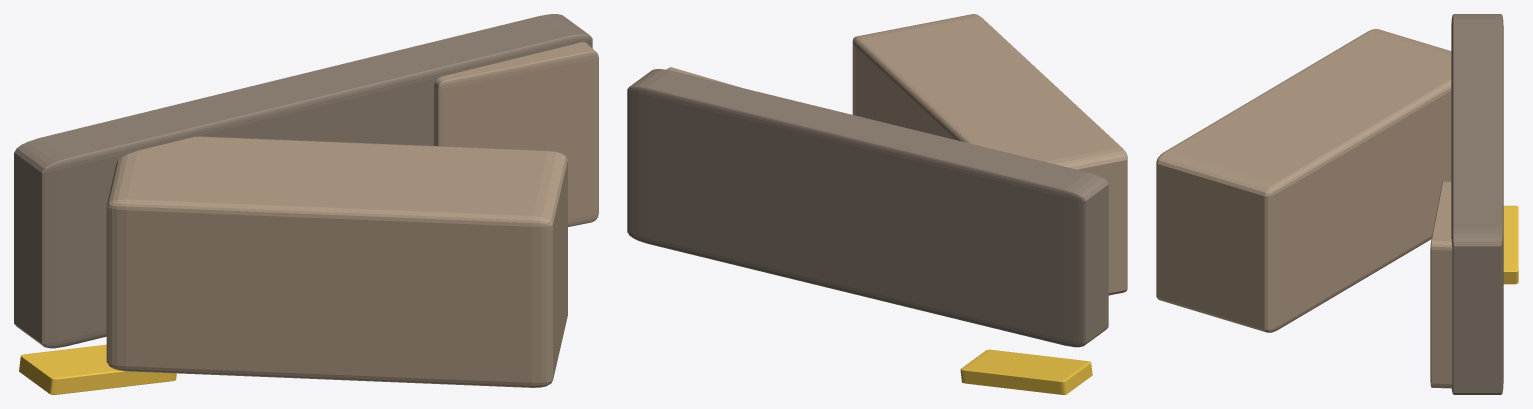
Rendered from d-x05-dominion-strategic-lod2.glb.
3 renders of one model, left to right at view 1: azimuth 30°, elevation 25°; view 2: azimuth 150°, elevation 25°; view 3: azimuth 270°, elevation 25°, orthographic. The views are drawn at different scales.
Parts seen in each view (by area): view 1: strategic_canister, strategic_lower, strategic_nose, strategic_jack_-1; view 2: strategic_lower, strategic_canister, strategic_jack_-1; view 3: strategic_canister, strategic_lower, strategic_nose, strategic_jack_-1.
Boxes of the visible parts, box(x1,y1,x2,y2) form: strategic_canister: box(106, 136, 567, 387); strategic_lower: box(14, 14, 592, 348); strategic_nose: box(434, 42, 598, 226); strategic_jack_-1: box(19, 344, 176, 394); strategic_lower: box(627, 69, 1108, 347); strategic_canister: box(852, 14, 1127, 295); strategic_jack_-1: box(960, 349, 1092, 394); strategic_canister: box(1156, 29, 1451, 332); strategic_lower: box(1451, 14, 1503, 394); strategic_nose: box(1430, 181, 1452, 388); strategic_jack_-1: box(1503, 205, 1518, 284).
Size of what is drawn, in the model's own units: 11.71 by 5.15 by 7.8.
